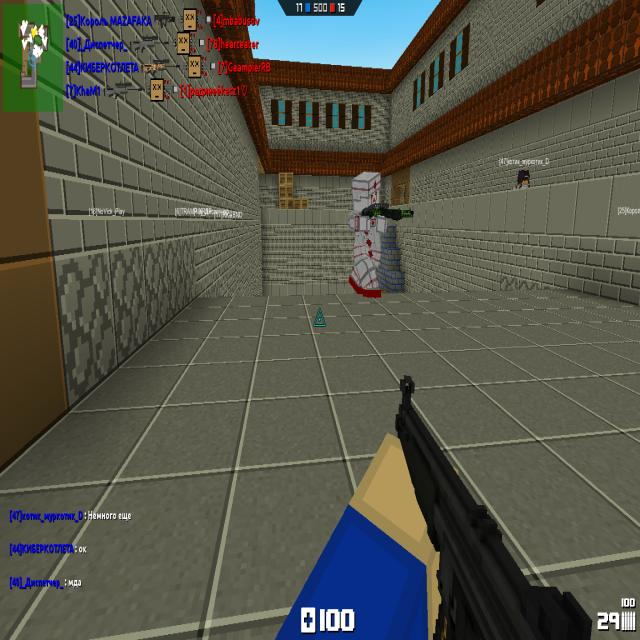enemy: (348, 170, 388, 298)
